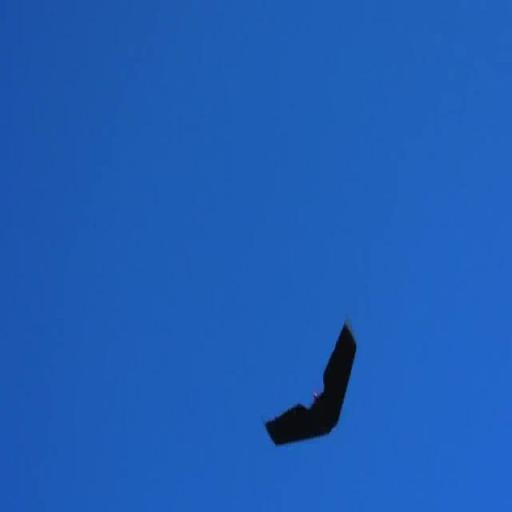uav: (258, 314, 364, 458)
